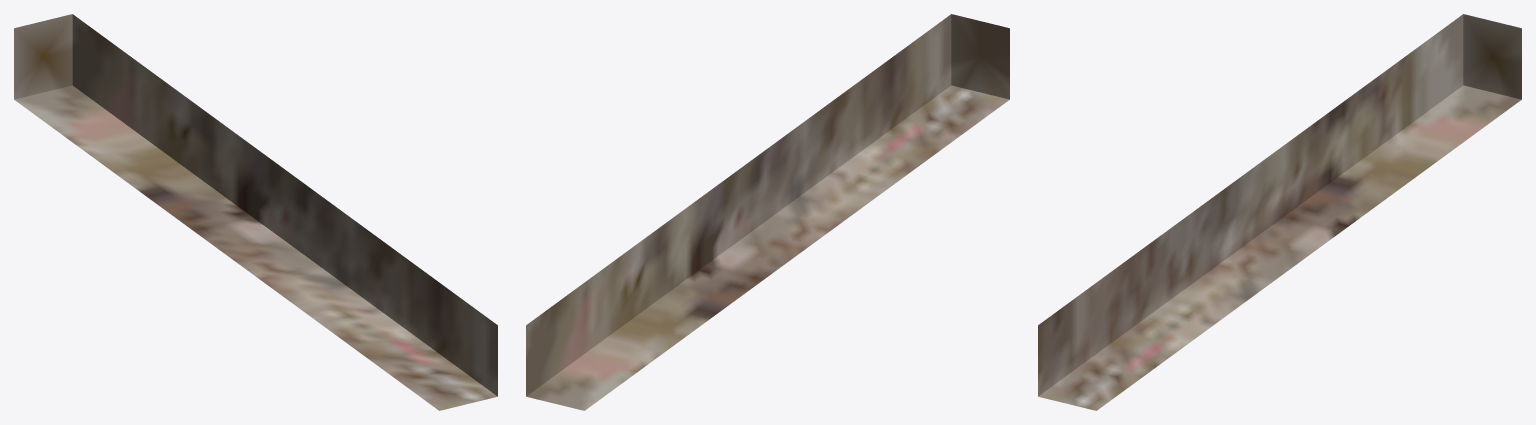
3 renders of one model, left to right at view 1: azimuth 30°, elevation 25°; view 2: azimuth 150°, elevation 25°; view 3: azimuth 330°, elevation 25°, orthographic.
Visible parts, largest first — view 1: geometry_0; view 2: geometry_0; view 3: geometry_0.
Part boxes in pixels (<box>): geometry_0: <box>14,14,497,410</box>; geometry_0: <box>526,14,1009,410</box>; geometry_0: <box>1038,14,1521,410</box>.
Size of the model in its own units: 1.8 by 2.1 by 22.68.
